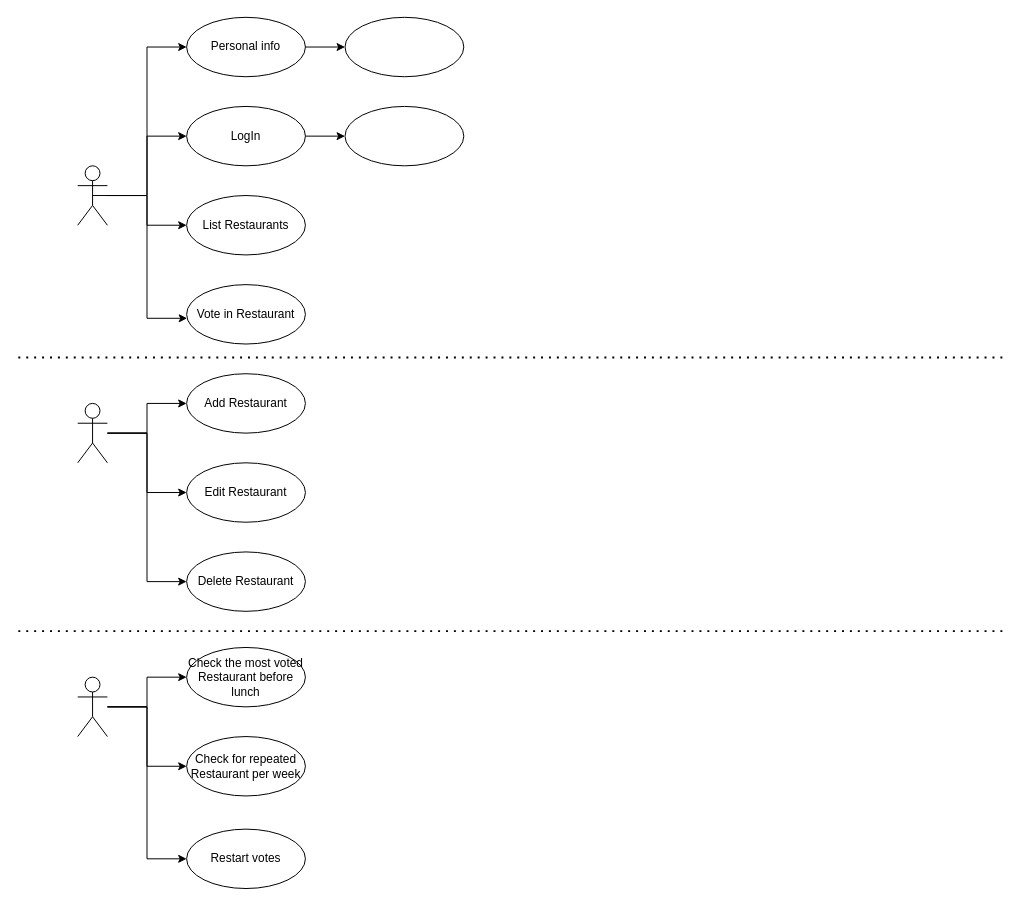
Image size: 1027x906. Some labels were removed from this diagram. Each missing label, with the centre of its shape:
*Autentication*: the point at 404,135
Adm User: the point at 92,432
Common User: the point at 92,195
Edit: the point at 404,46
System: the point at 92,706
